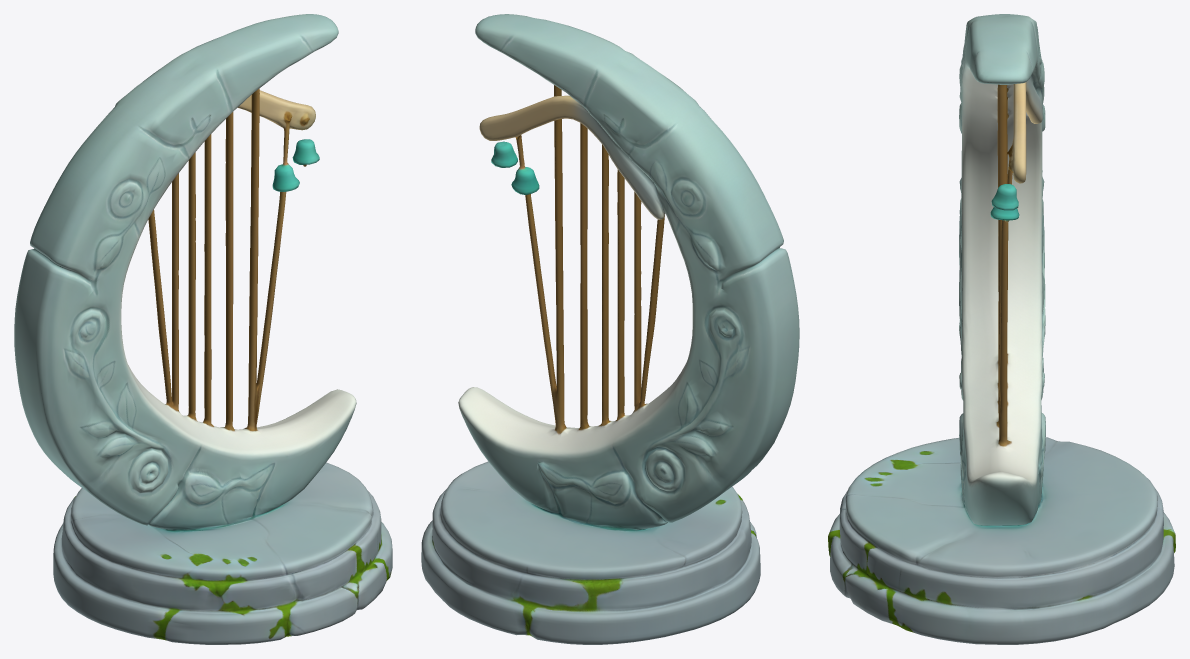
File: harp.glb
The picture shows the model from 3 angles, left to right: view 1: azimuth 30°, elevation 25°; view 2: azimuth 150°, elevation 25°; view 3: azimuth 270°, elevation 25°; orthographic projection. The views are drawn at different scales.
Parts seen in each view (by area): view 1: model; view 2: model; view 3: model.
Part boxes in pixels (x1,y1,x2,y2): model: [14, 14, 392, 644]; model: [421, 14, 799, 644]; model: [828, 14, 1175, 644].
Bounding box in the file's own units: 1.29 × 1.9 × 1.08.
1 material, 1 textured.
